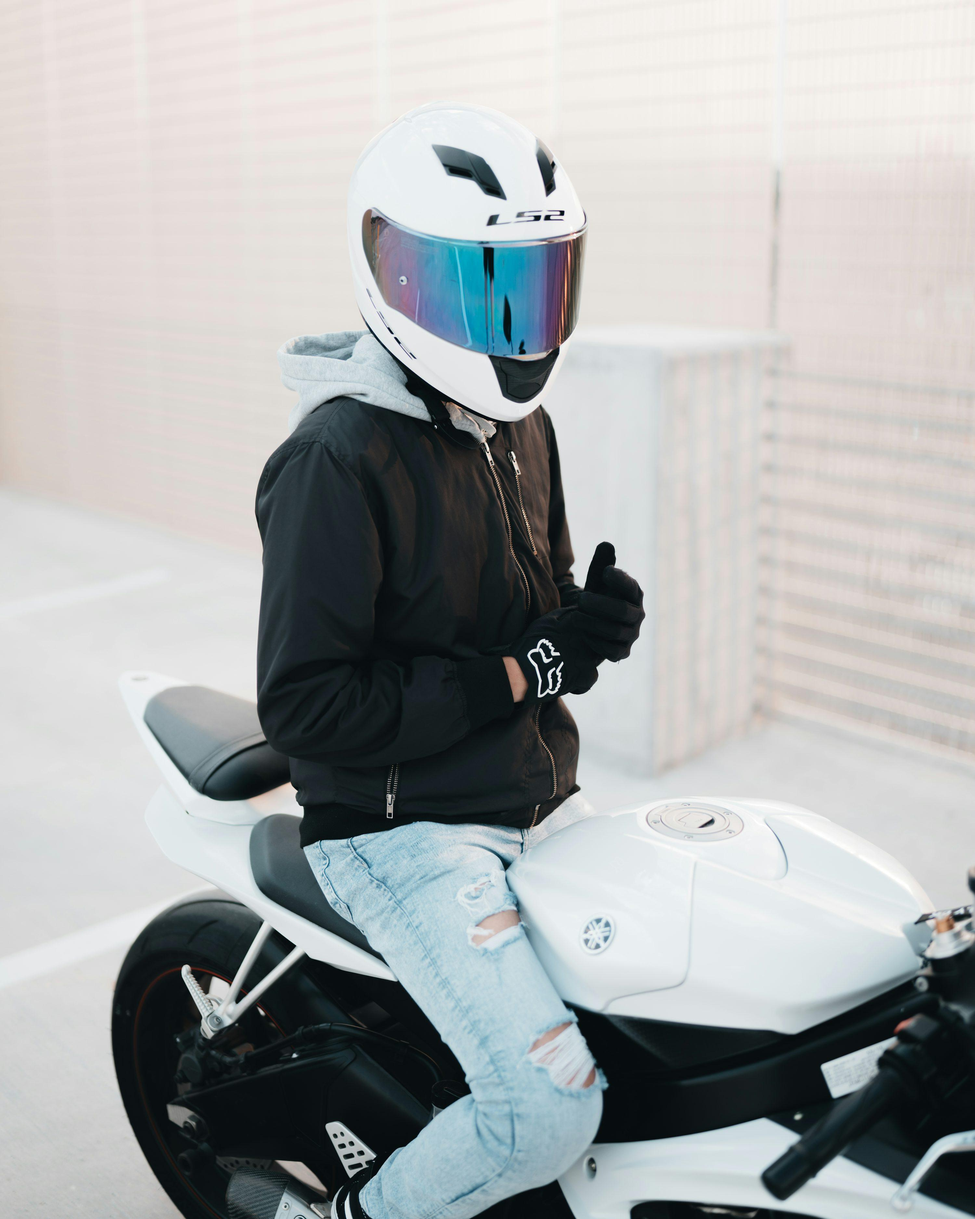Helmet: (347, 102, 588, 422)
